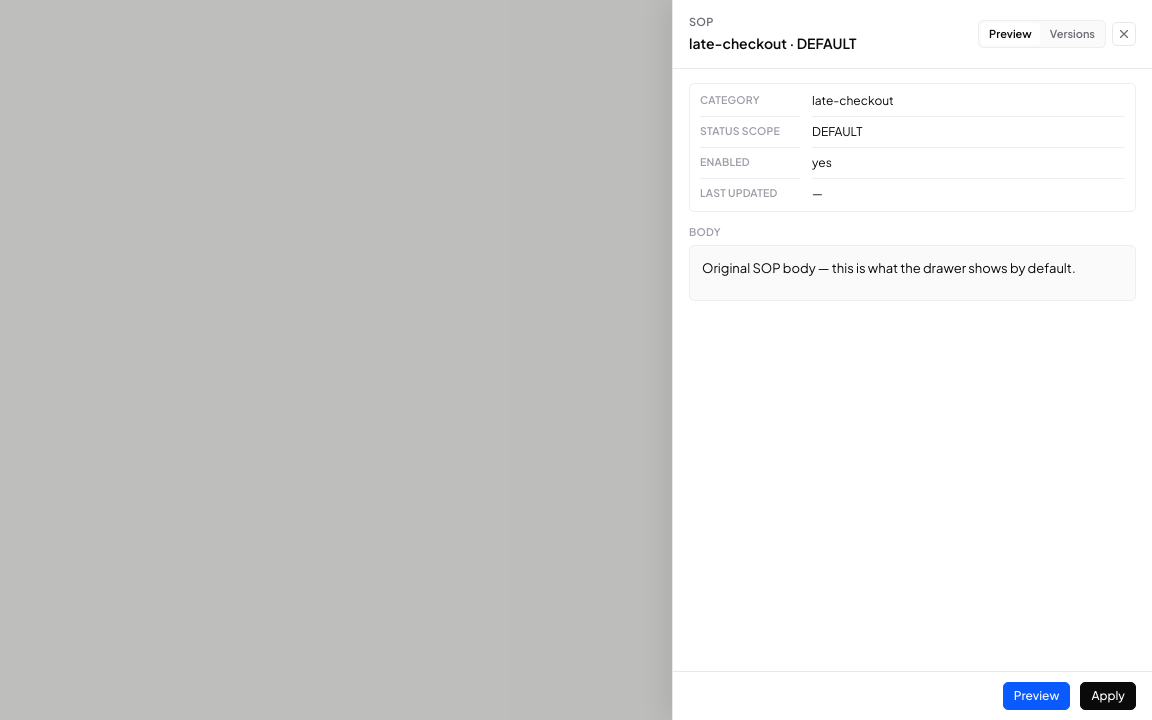
Test: ArtifactDrawer — D3 Preview/Apply › Preview click fetches with dryRun:true, shows banner, enables Apply
Click the button with aria-label "Preview change".
click(1037, 696)  # box [1003,682,1070,710]
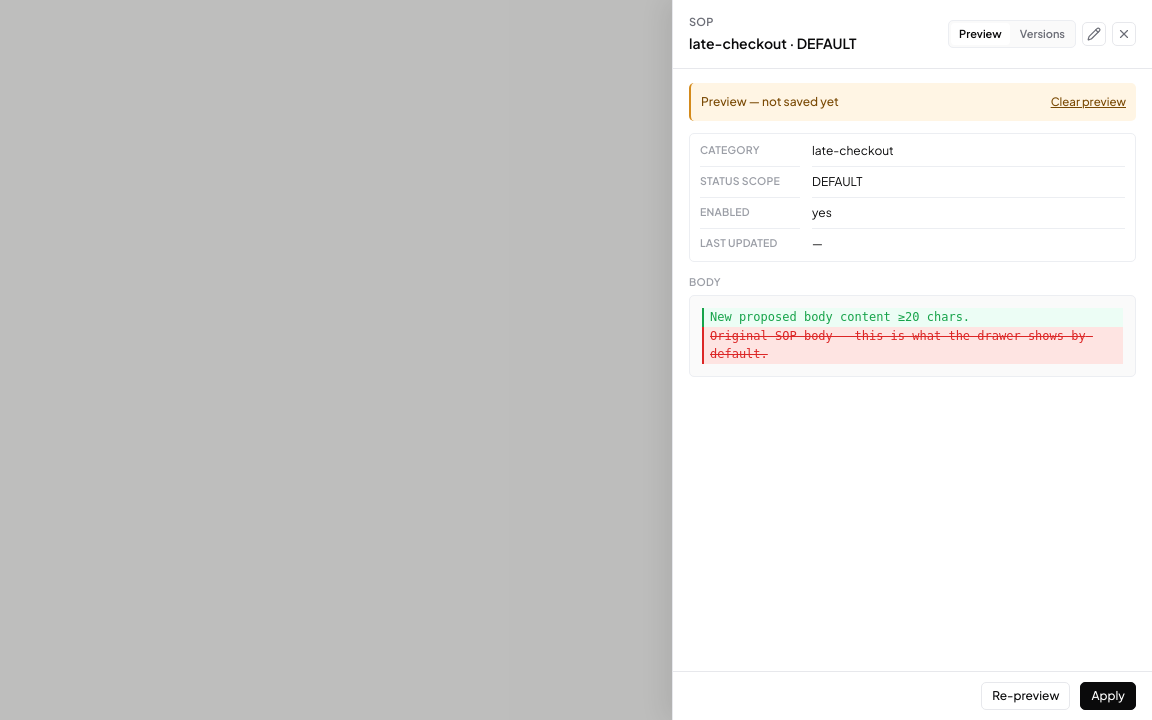
Expected: the button with aria-label "Apply change" is enabled, [1080,682,1136,710]
Result: the message "Preview — not saved yet Clear preview" is shown at [689,82,1136,120]
